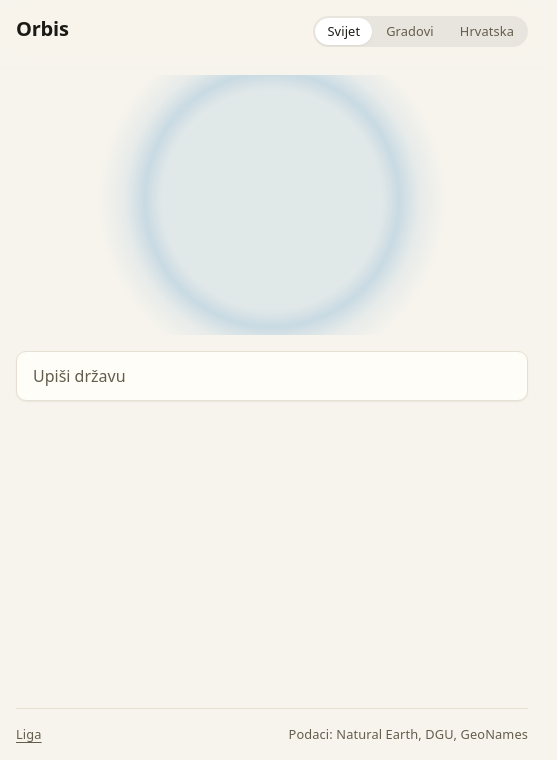
App › lista se prebacuje na kronološki poredak
The width and height of the screenshot is (557, 760).
Type "Alfa" into the dropdown labelled "Upiši državu" at (272, 376), box [16,351,528,401]
Then press Enter
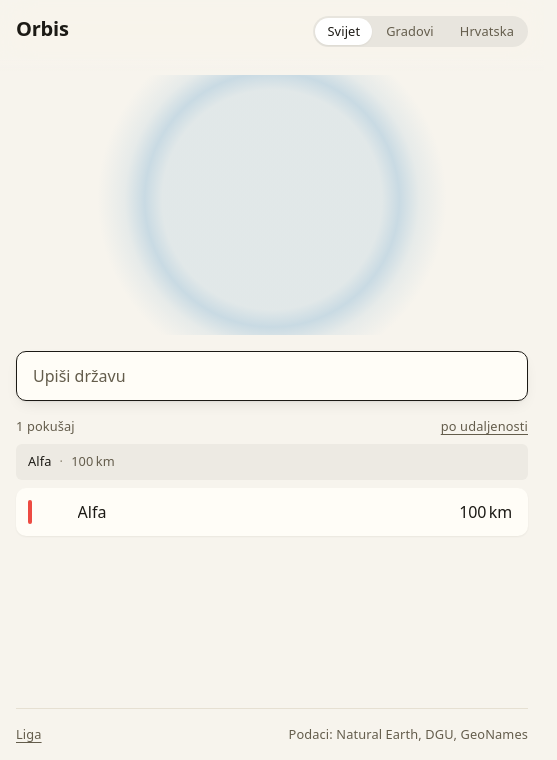
Expected: the button "po udaljenosti" is shown
Click the button "po udaljenosti" at (484, 427), box [433,413,536,440]
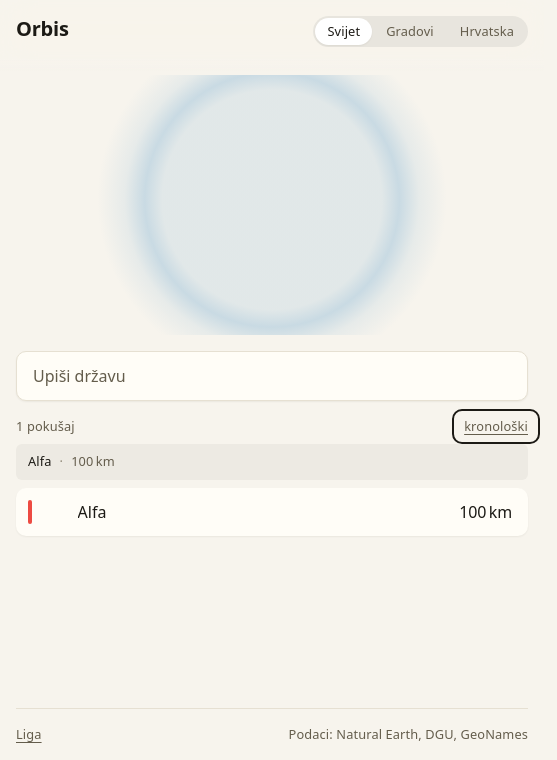
Expected: the button "kronološki" is shown, [456,413,536,440]
